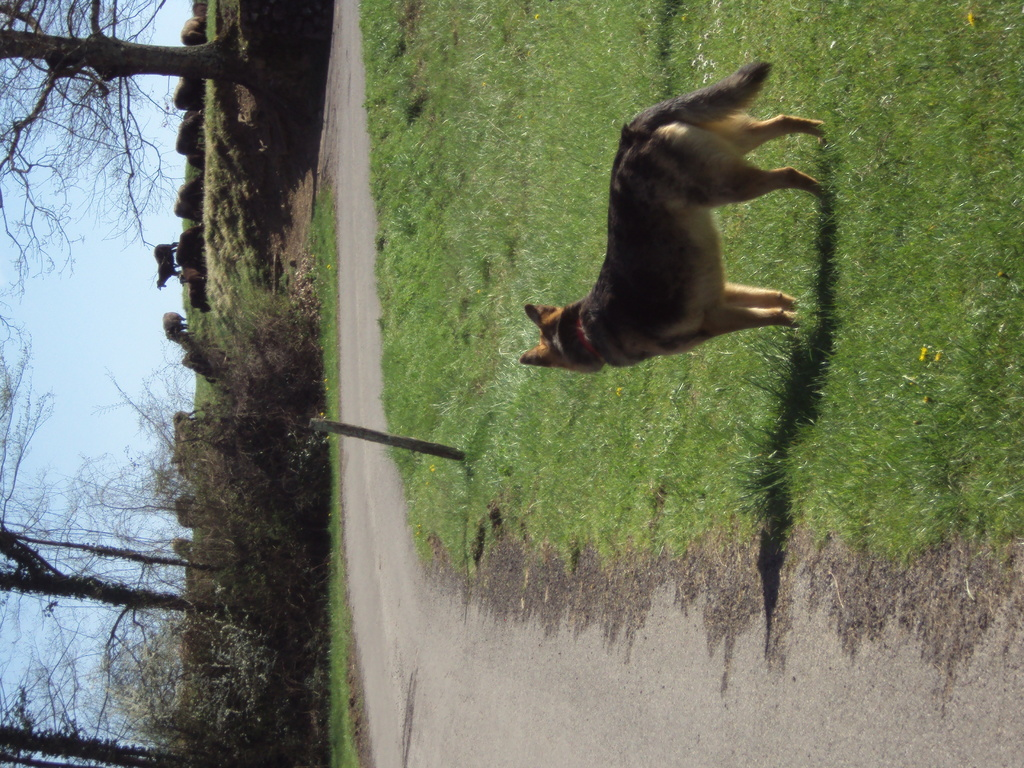Animal: (513, 50, 824, 369)
